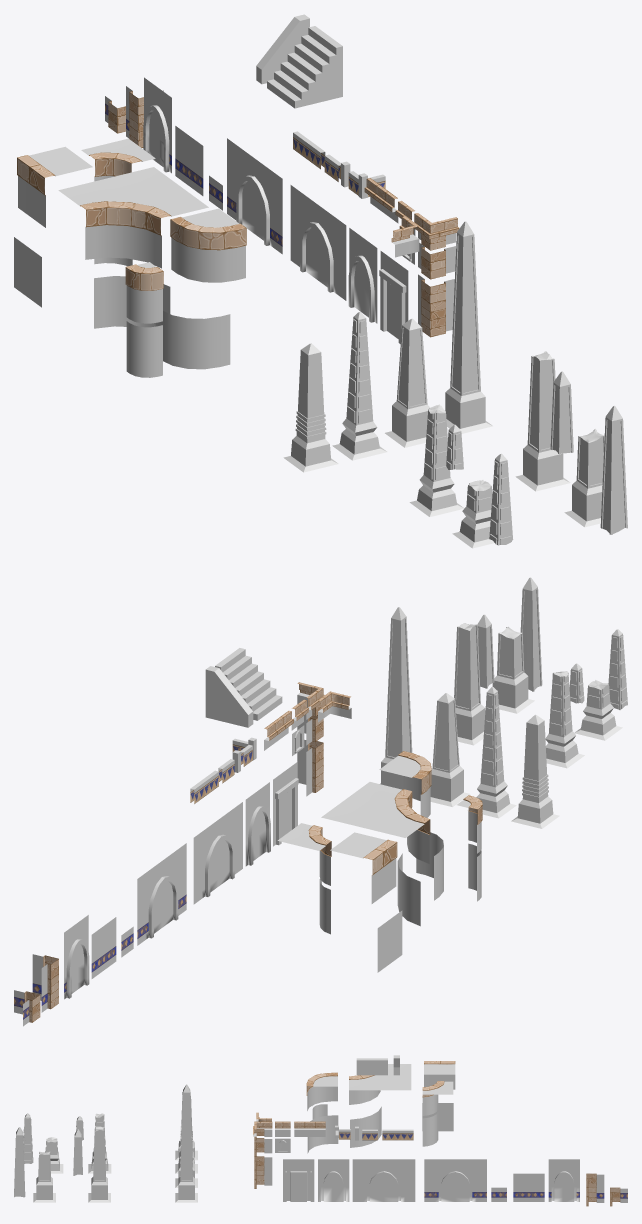
Rendered from Zone2-ModularAssets.fbx.
3 views of the same model, one above another, from view 1: azimuth 30°, elevation 25°; view 2: azimuth 150°, elevation 25°; view 3: azimuth 270°, elevation 25° (orthographic). The views are drawn at different scales.
Parts seen in each view (by area): view 1: Plane.027, Cube, Plane.023, OpenWall2x2.004, OpenWall2x2.001, Cube.018, Cube.004, Cube.003, Cube.001, Cube.002, Plane.008, Cube.006 (+22 smaller); view 2: Plane.027, Cube, OpenWall2x2.001, OpenWall2x2.004, Cube.004, Cube.001, Cube.003, Cube.002, Cube.008, Cube.006, Cube.018, Plane.024 (+20 smaller); view 3: OpenWall2x2.004, OpenWall2x2.001, Plane.027, Cube, OpenWall2x2.002, OpenWall2x2.005, Plane, Cube.004, Plane.023, Plane.001, Cube.008, Plane.024 (+22 smaller).
Part boxes in pixels (box(x1,y1,x2,y2)): Plane.027: box(58, 167, 208, 268); Cube: box(445, 221, 492, 433); Plane.023: box(170, 208, 246, 282); OpenWall2x2.004: box(290, 185, 346, 300); OpenWall2x2.001: box(227, 138, 282, 254); Cube.018: box(267, 26, 342, 108); Cube.004: box(515, 351, 570, 491); Cube.003: box(283, 343, 338, 472); Cube.001: box(385, 318, 430, 447); Cube.002: box(332, 312, 386, 460); Plane.008: box(155, 311, 230, 369); Cube.006: box(409, 404, 464, 516); Plane.027: box(321, 782, 430, 863); Cube: box(380, 607, 412, 789); OpenWall2x2.001: box(137, 843, 186, 945); OpenWall2x2.004: box(193, 802, 242, 904); Cube.004: box(454, 623, 485, 745); Cube.001: box(430, 693, 470, 806); Cube.003: box(511, 714, 559, 828); Cube.002: box(468, 687, 516, 818); Cube.008: box(492, 627, 534, 713); Cube.006: box(545, 671, 584, 768); Cube.018: box(215, 648, 282, 720); Plane.024: box(330, 832, 397, 903); OpenWall2x2.004: box(352, 1159, 415, 1201); OpenWall2x2.001: box(424, 1159, 486, 1201); Plane.027: box(349, 1064, 411, 1104); Cube: box(175, 1084, 197, 1202); OpenWall2x2.002: box(548, 1159, 579, 1201); OpenWall2x2.005: box(318, 1159, 349, 1201); Plane: box(283, 1159, 314, 1201); Cube.004: box(88, 1126, 110, 1202); Plane.023: box(306, 1072, 337, 1110); Plane.001: box(513, 1173, 544, 1201); Cube.008: box(33, 1151, 55, 1202); Plane.024: box(424, 1061, 455, 1089).
Bounding box in the file's own units: 11.22 × 10.4 × 39.21.
